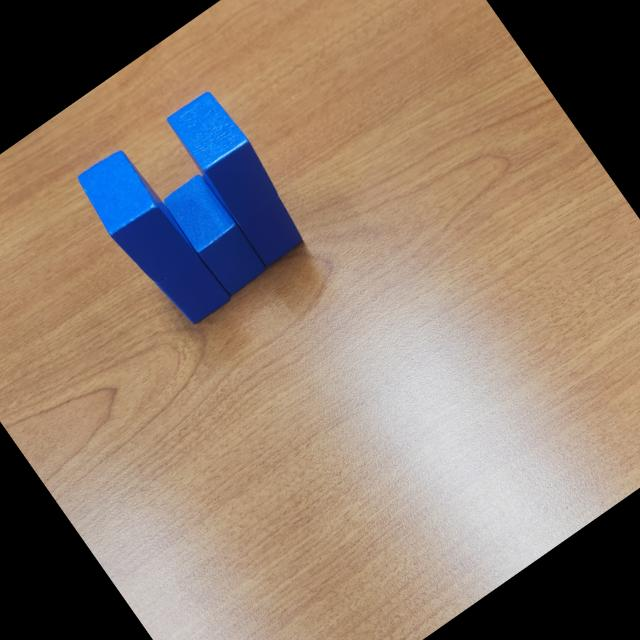blue: (70, 142, 202, 290), (163, 85, 286, 226), (160, 171, 271, 299), (201, 144, 310, 268), (152, 248, 232, 330)
